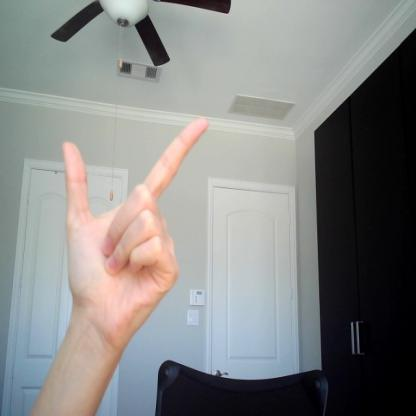L: (55, 113, 213, 355)
